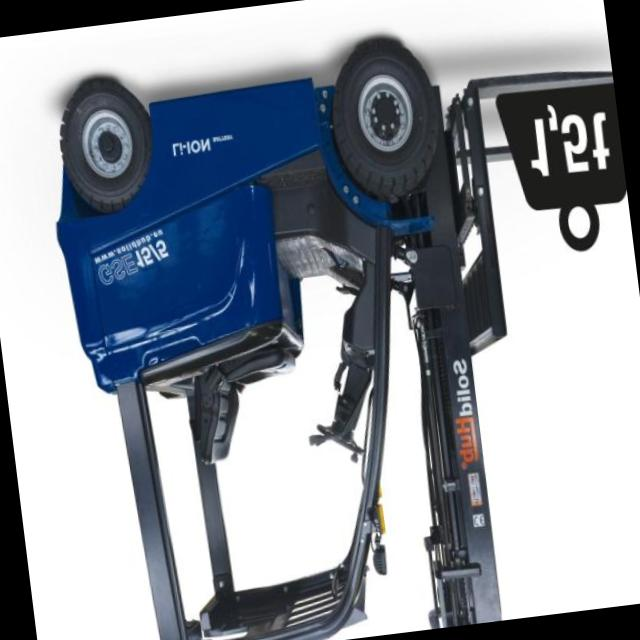forklift: (24, 23, 551, 640)
